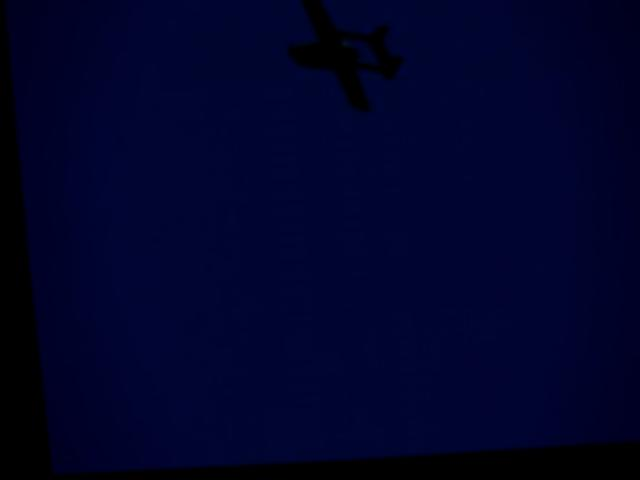uav: (277, 0, 406, 121)
